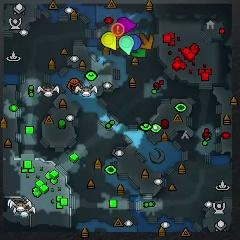Other: (111, 23, 125, 36)
p1: (127, 34, 141, 51)
p2: (120, 36, 133, 56)
p3: (117, 17, 137, 33)
p4: (102, 31, 117, 51)
x4: (131, 48, 146, 58)
x5: (138, 33, 154, 50)
